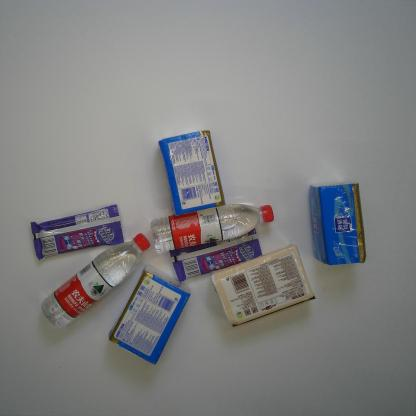Candy: (30, 204, 124, 260), (169, 228, 262, 284)
Drink: (42, 233, 150, 330), (151, 203, 274, 253)
Tissue: (210, 244, 315, 327), (108, 264, 191, 365), (158, 129, 226, 217), (308, 180, 366, 266)
